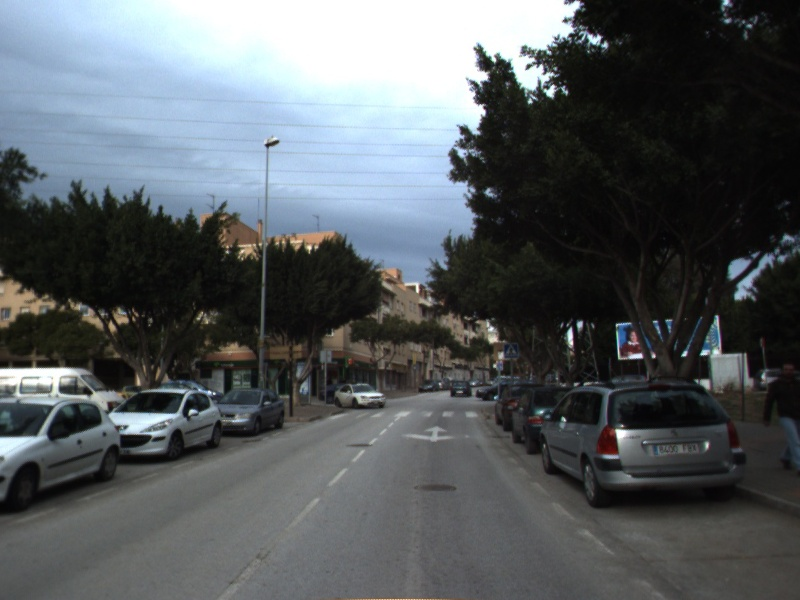STRAIGHT_LEFT_RIGHT: (398, 423, 472, 444)
